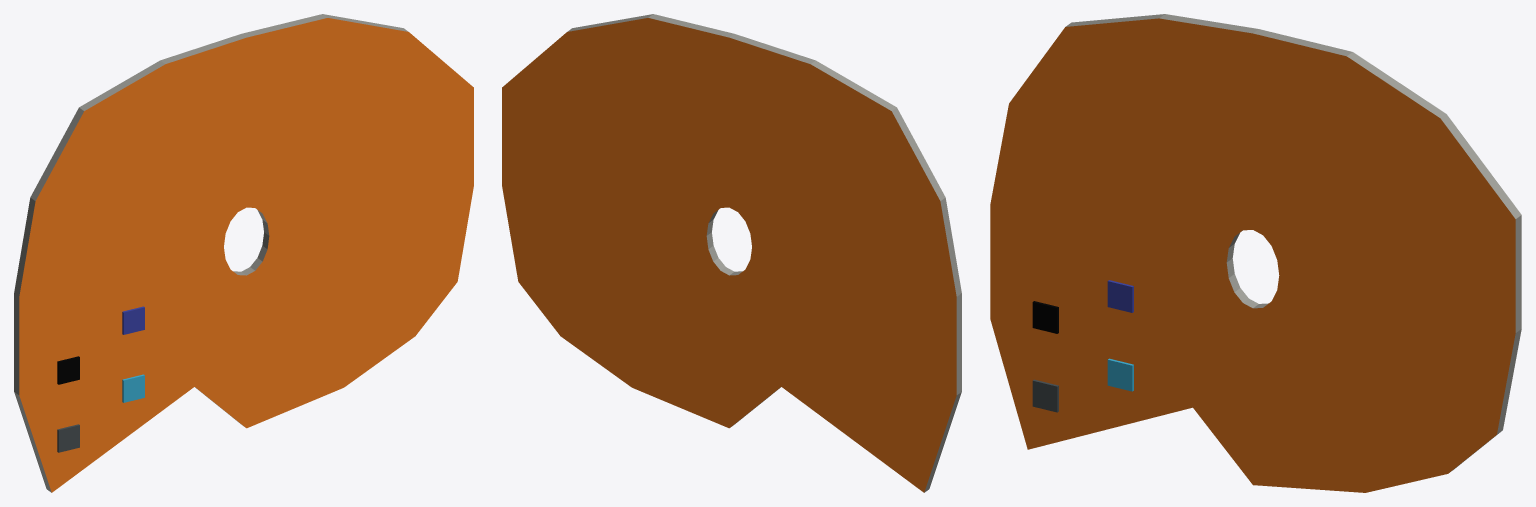
The model's file is item_palette4.obj.
The picture shows the model from 3 angles, left to right: view 1: azimuth 30°, elevation 25°; view 2: azimuth 150°, elevation 25°; view 3: azimuth 330°, elevation 25°; orthographic projection. The views are drawn at different scales.
Visible parts, largest first — view 1: wooden_palette_with_open_thumb_hole_and_grip_notch, native_cumulative_paint_state; view 2: wooden_palette_with_open_thumb_hole_and_grip_notch; view 3: wooden_palette_with_open_thumb_hole_and_grip_notch, native_cumulative_paint_state.
Part boxes in pixels (x1,y1,x2,y2): wooden_palette_with_open_thumb_hole_and_grip_notch: [14, 14, 473, 492]; native_cumulative_paint_state: [57, 306, 144, 452]; wooden_palette_with_open_thumb_hole_and_grip_notch: [502, 14, 961, 492]; wooden_palette_with_open_thumb_hole_and_grip_notch: [990, 14, 1521, 492]; native_cumulative_paint_state: [1032, 280, 1133, 412].
Size of the model in its own units: 0.875 by 0.75 by 0.0219.
